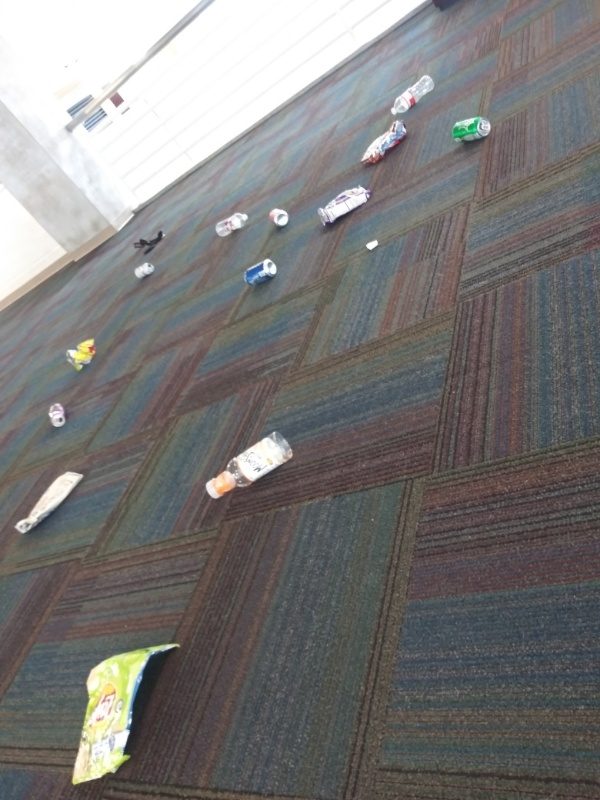bag: (67, 630, 186, 793), (9, 467, 91, 540), (317, 182, 379, 231), (356, 116, 410, 170), (57, 339, 105, 374)
bottle: (202, 426, 300, 506), (387, 68, 438, 119), (215, 207, 251, 242)
can: (449, 116, 494, 149), (239, 258, 277, 290), (45, 401, 71, 434), (264, 206, 291, 229), (133, 259, 158, 281)
